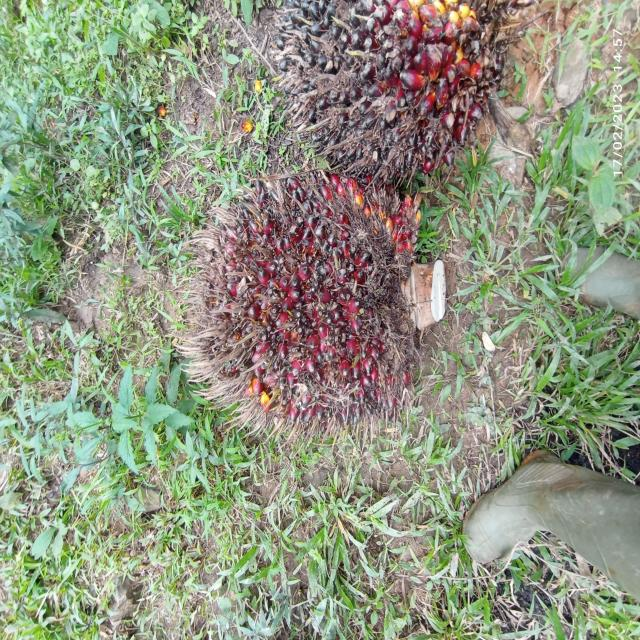fraksi 00: (275, 3, 498, 183)
fraksi 1: (172, 157, 476, 433)
